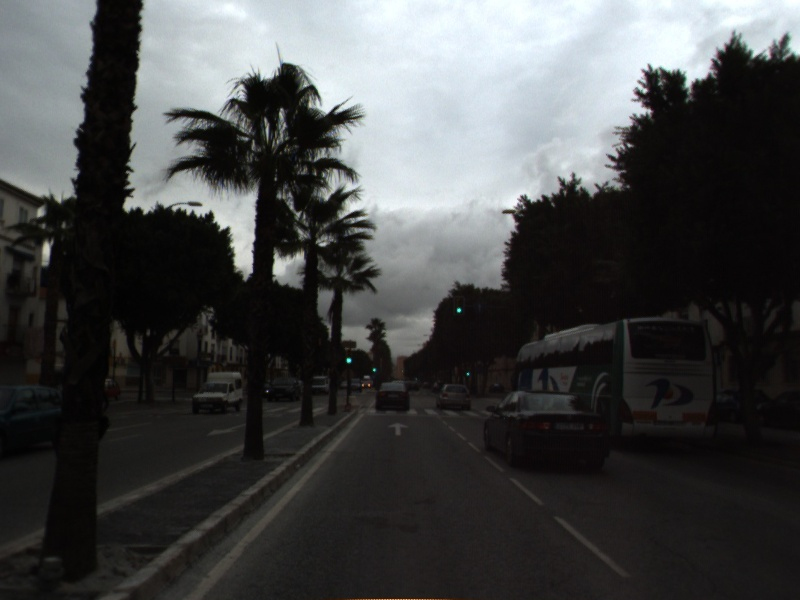STRAIGHT: (386, 420, 411, 438)
